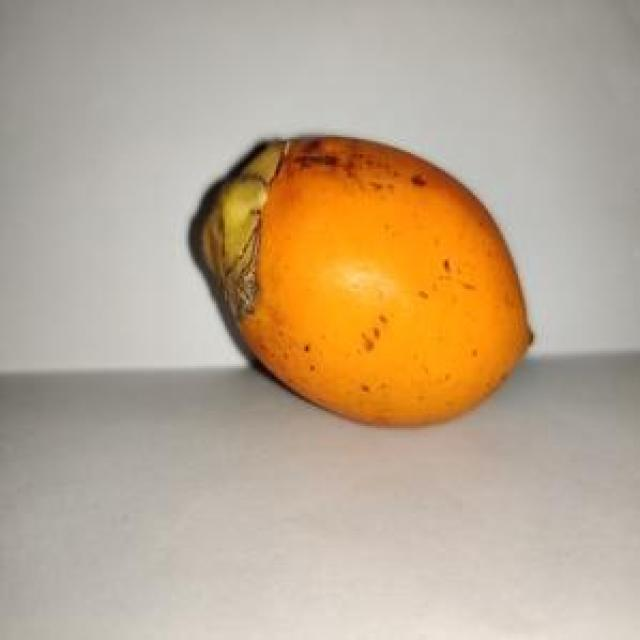good: (188, 135, 535, 430)
